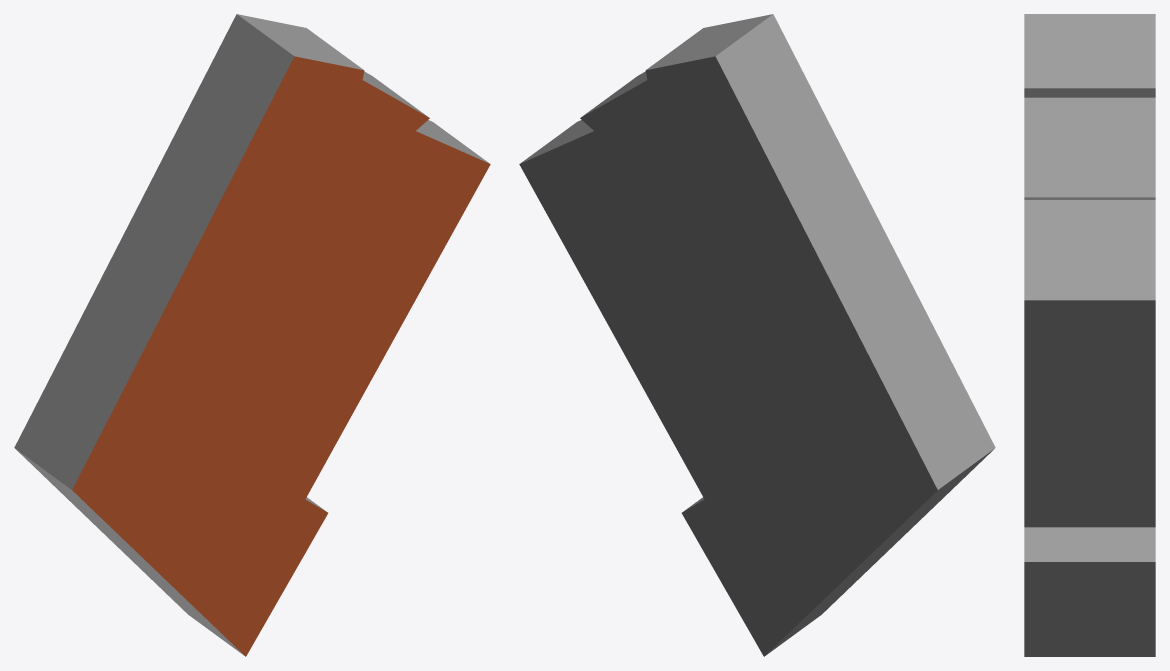
Rendered from construction_5003_assumed_A_Casa_h6m.obj.
3 views of the same model, side by side, from view 1: azimuth 30°, elevation 25°; view 2: azimuth 150°, elevation 25°; view 3: azimuth 270°, elevation 25° (orthographic). The views are drawn at different scales.
Parts seen in each view (by area): view 1: construction_5003_assumed_A_Casa; view 2: construction_5003_assumed_A_Casa; view 3: construction_5003_assumed_A_Casa.
Boxes of the visible parts, x1,y1,x2,y2 form: construction_5003_assumed_A_Casa: (14, 14, 490, 656); construction_5003_assumed_A_Casa: (519, 14, 995, 656); construction_5003_assumed_A_Casa: (1024, 14, 1155, 656).
Bounding box in the file's own units: 25.07 × 33.69 × 6.
